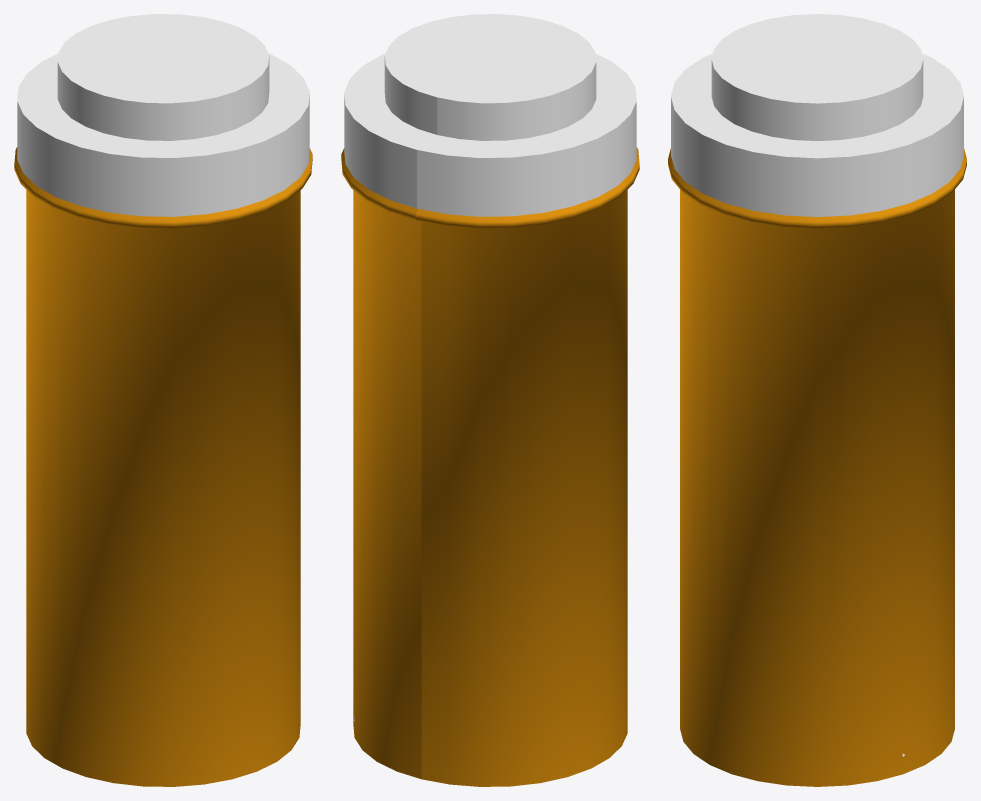
The model's file is pill-bottle-white.glb.
3 views of the same model, side by side, from view 1: azimuth 30°, elevation 25°; view 2: azimuth 150°, elevation 25°; view 3: azimuth 270°, elevation 25° (orthographic).
Visible parts, largest first — view 1: Cylinder.015_Cylinder.003; view 2: Cylinder.015_Cylinder.003; view 3: Cylinder.015_Cylinder.003.
Boxes of the visible parts, <box> form: Cylinder.015_Cylinder.003: <box>14,14,312,786</box>; Cylinder.015_Cylinder.003: <box>341,14,639,786</box>; Cylinder.015_Cylinder.003: <box>668,14,966,786</box>.
Size of the model in its own units: 0.0486 by 0.1202 by 0.0486.
1 material, 1 textured.
